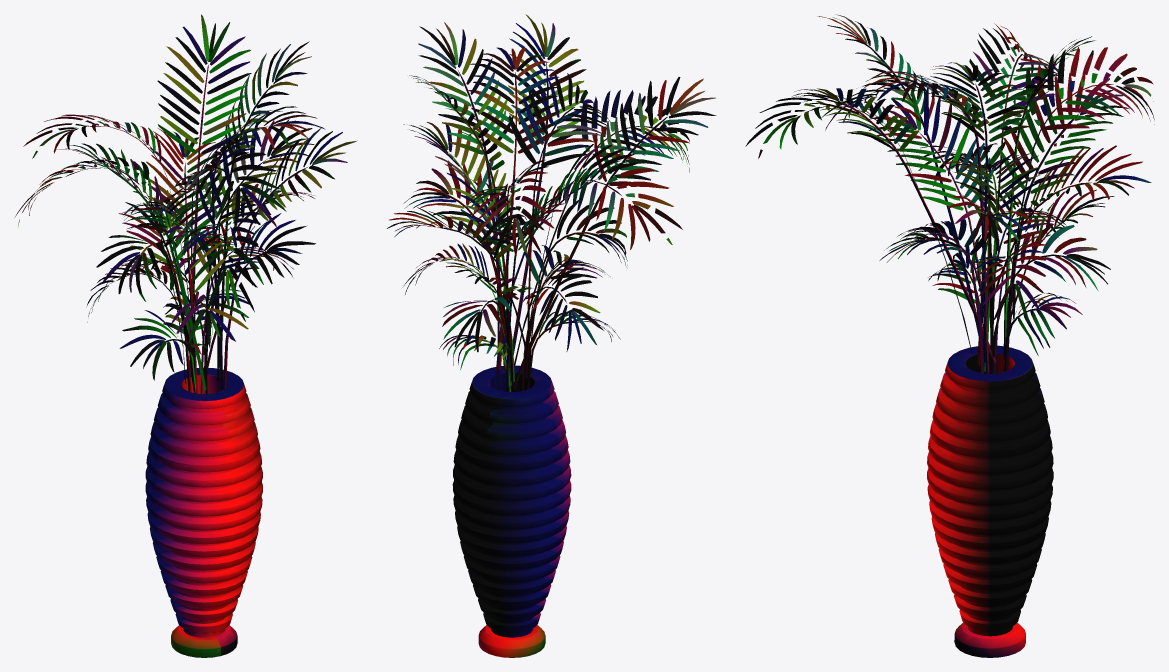
File: vaso-metalico-com-plantas.FBX
3 views of the same model, side by side, from view 1: azimuth 30°, elevation 25°; view 2: azimuth 150°, elevation 25°; view 3: azimuth 270°, elevation 25° (orthographic). The views are drawn at different scales.
Parts seen in each view (by area): view 1: vaso_metalico_com_plantas; view 2: vaso_metalico_com_plantas; view 3: vaso_metalico_com_plantas.
Boxes of the visible parts, bbox=[...] form: vaso_metalico_com_plantas: bbox=[15, 14, 357, 657]; vaso_metalico_com_plantas: bbox=[387, 14, 716, 657]; vaso_metalico_com_plantas: bbox=[745, 14, 1154, 657].
Size of the model in its own units: 110 by 211 by 125.
